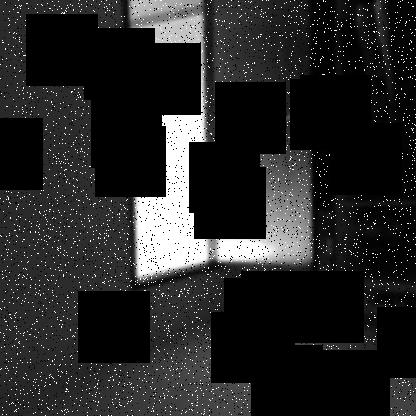Porte: (123, 0, 322, 294)
